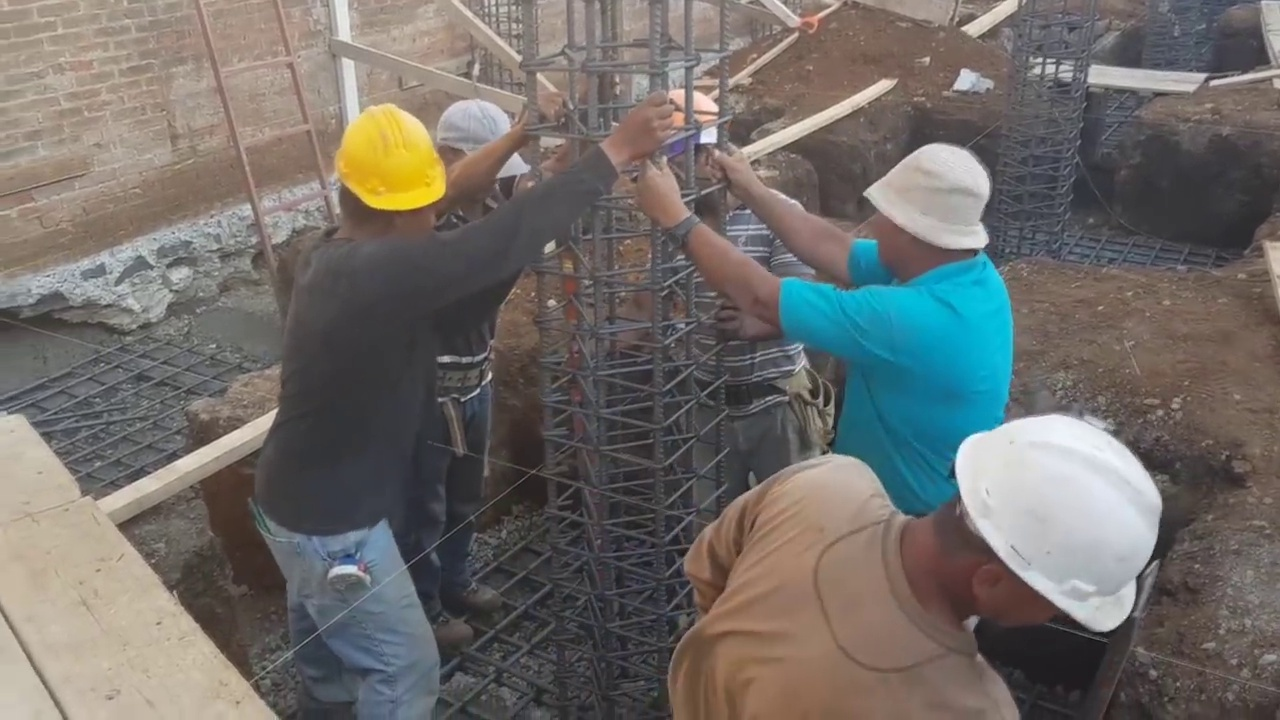helmet: (955, 416, 1160, 638), (336, 102, 452, 214), (666, 86, 723, 129)
helmet-off: (849, 135, 997, 273), (434, 100, 530, 208)
helmet-on: (891, 413, 1165, 642), (327, 100, 454, 241), (663, 84, 726, 223)
person: (248, 93, 675, 719), (670, 416, 1162, 720), (637, 140, 1016, 514), (414, 100, 567, 652), (665, 82, 832, 487)
